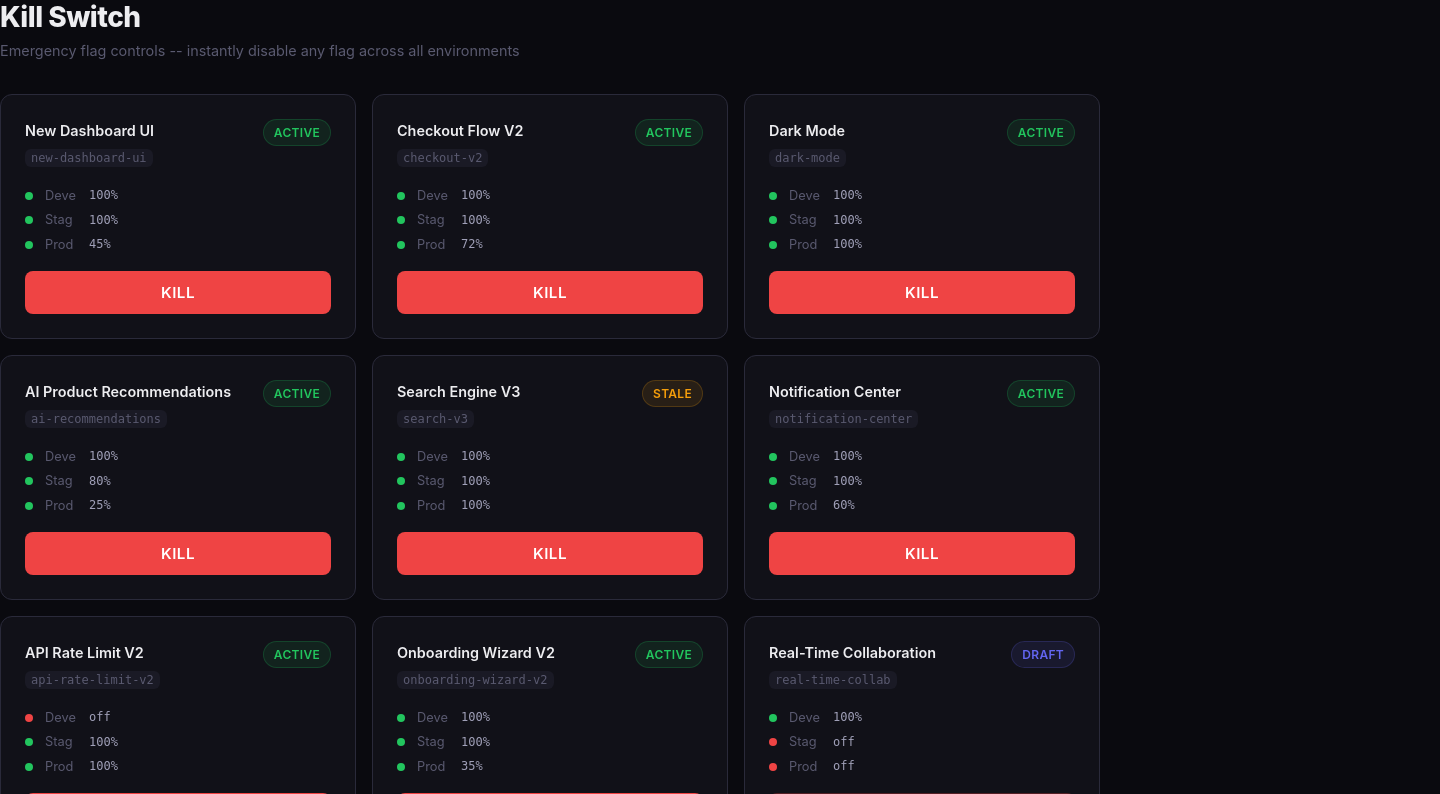
Test: KillSwitchPage › shows confirmation modal on kill click
Click the button "Kill" below "45%".
click(178, 293)  # box [25,271,331,314]
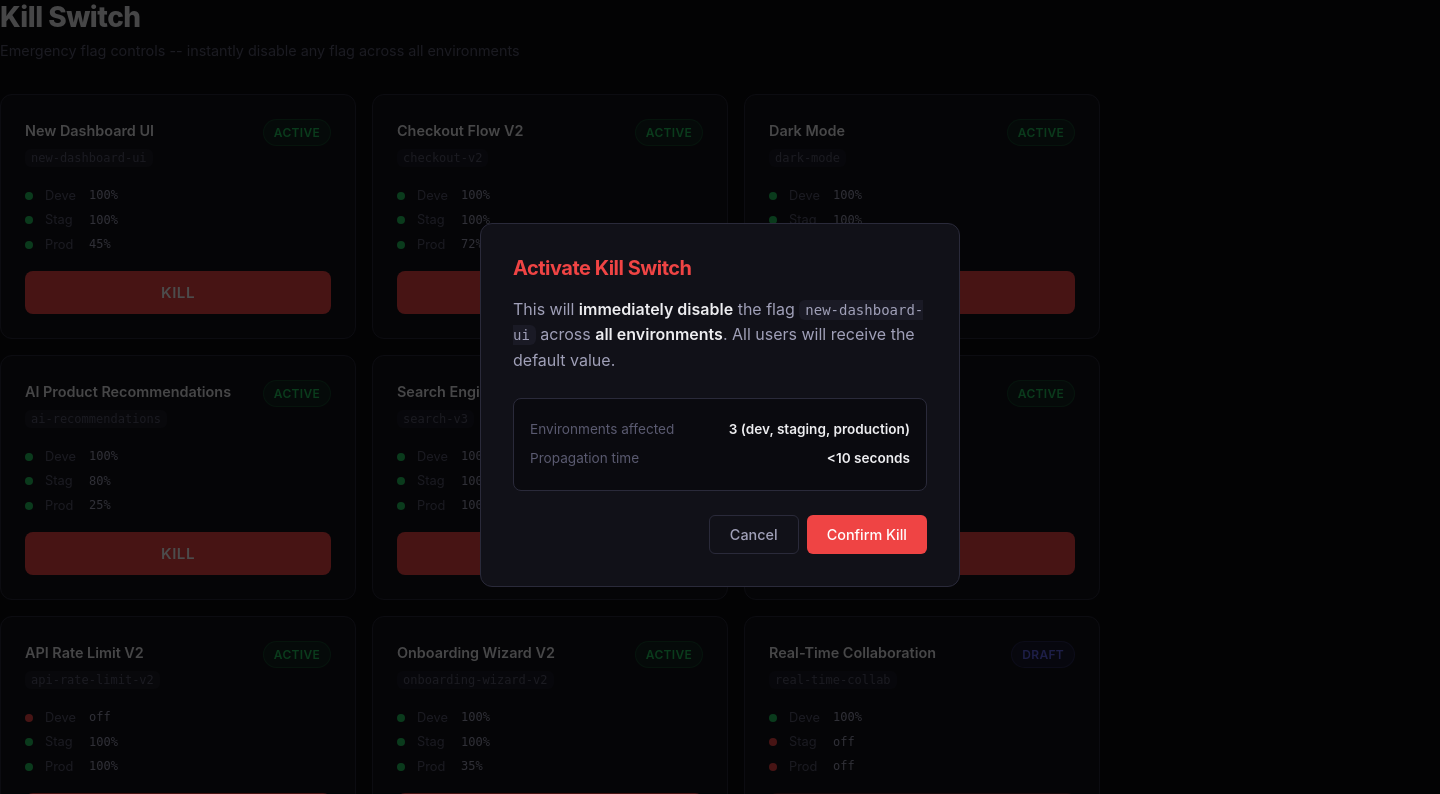
Expected: the heading "Activate Kill Switch" is shown, [513,256,692,280]
Expected: the button "Confirm Kill" is shown, [807,515,927,554]
